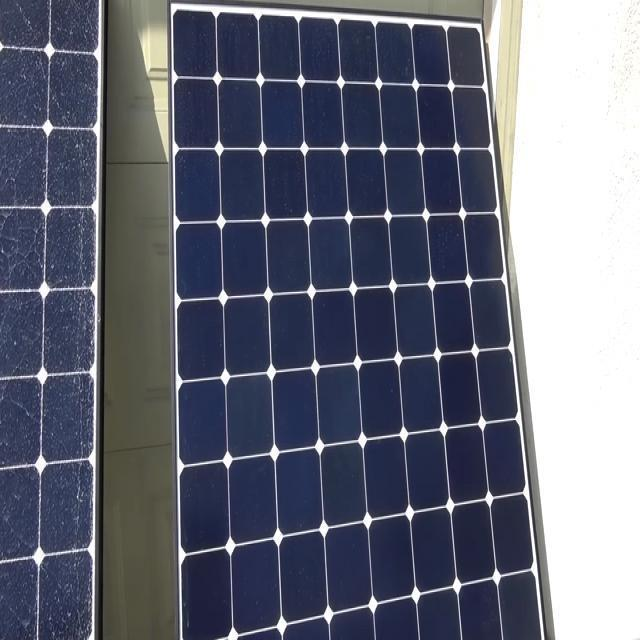Normal Solar Panel: (170, 5, 543, 640)
